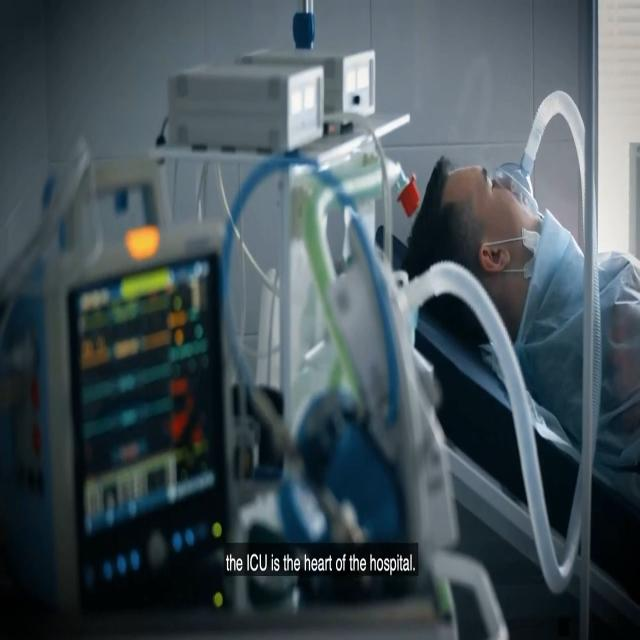Movement-NO: (403, 90, 591, 388)
